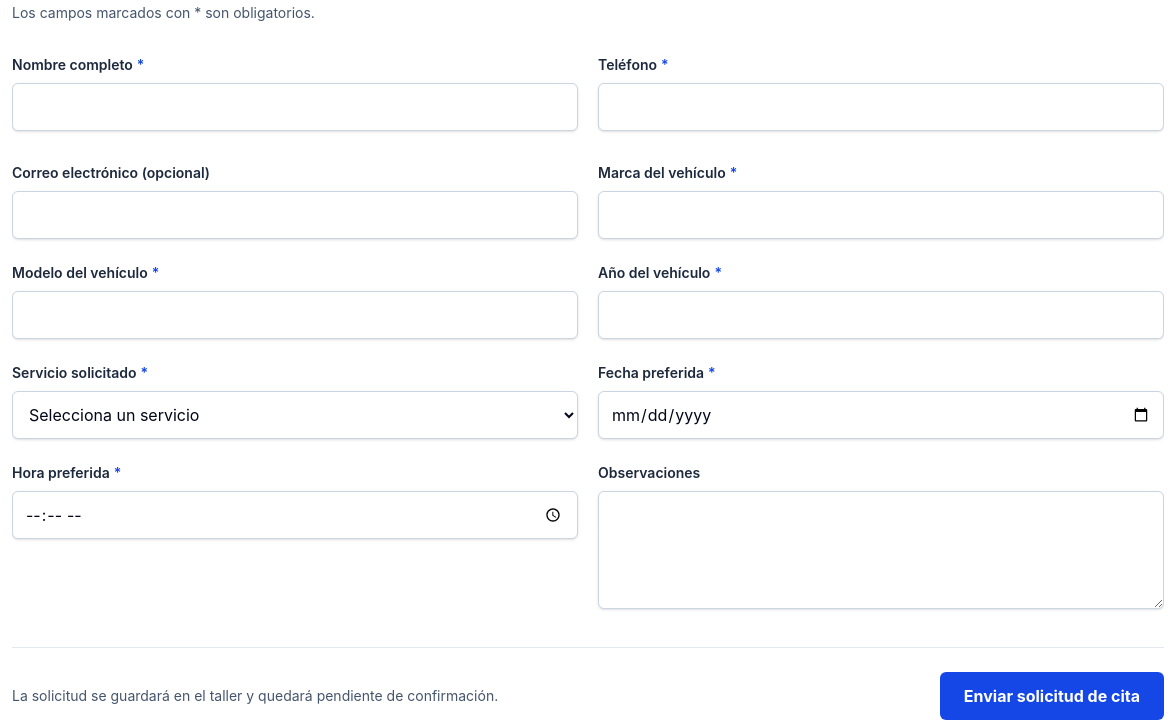
Test case: formulario de solicitud de cita › muestra errores para campos obligatorios y enfoca el primero
(page scrolled)
Click the button "Enviar solicitud de cita". click: [1052, 696]
box: [940,672,1164,719]
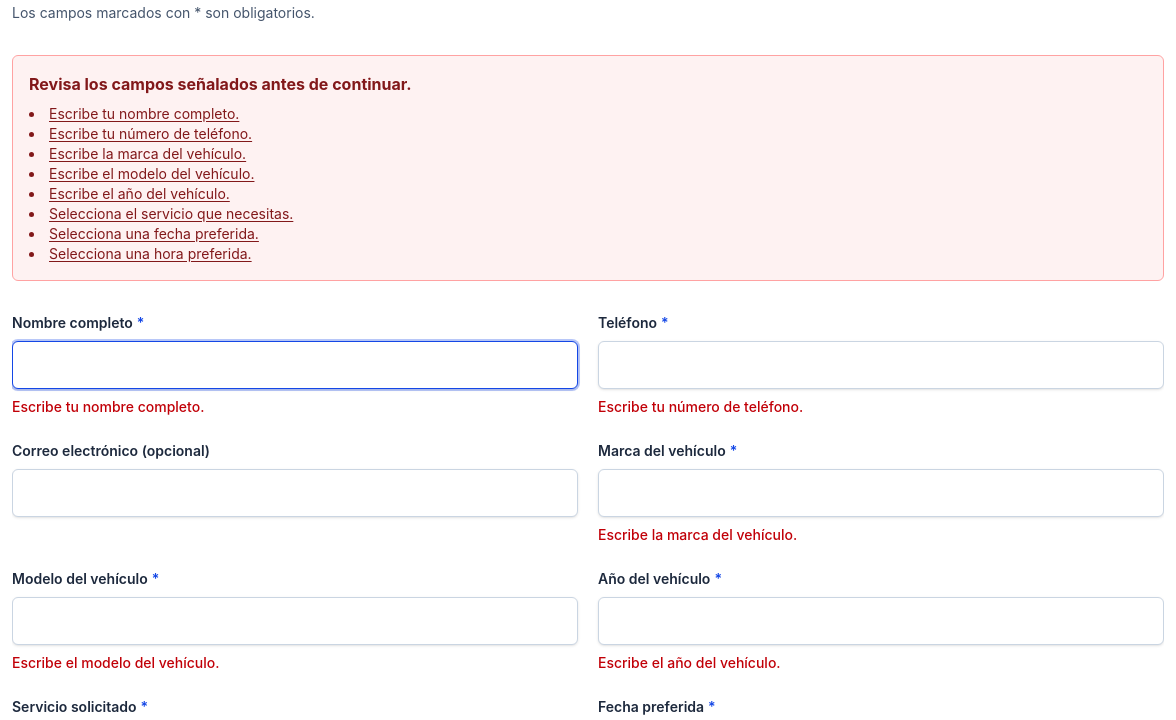
Check: the message shows "Escribe tu nombre completo.", box [49,105,239,122]
